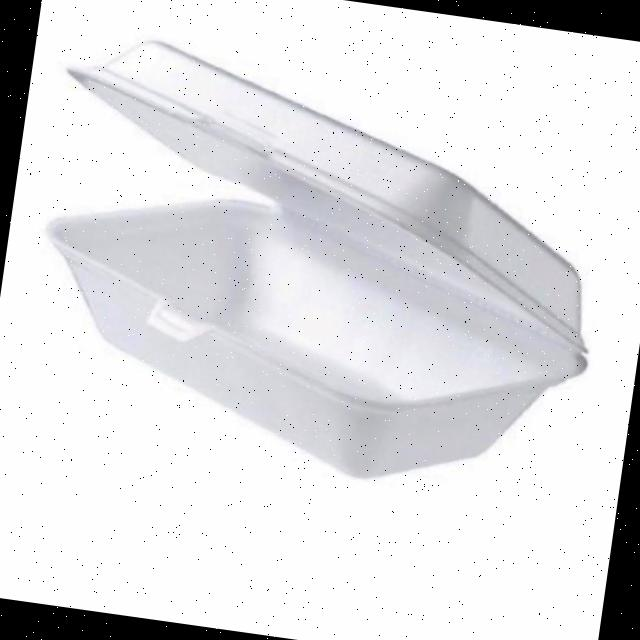styrofoam: (12, 23, 626, 510)
